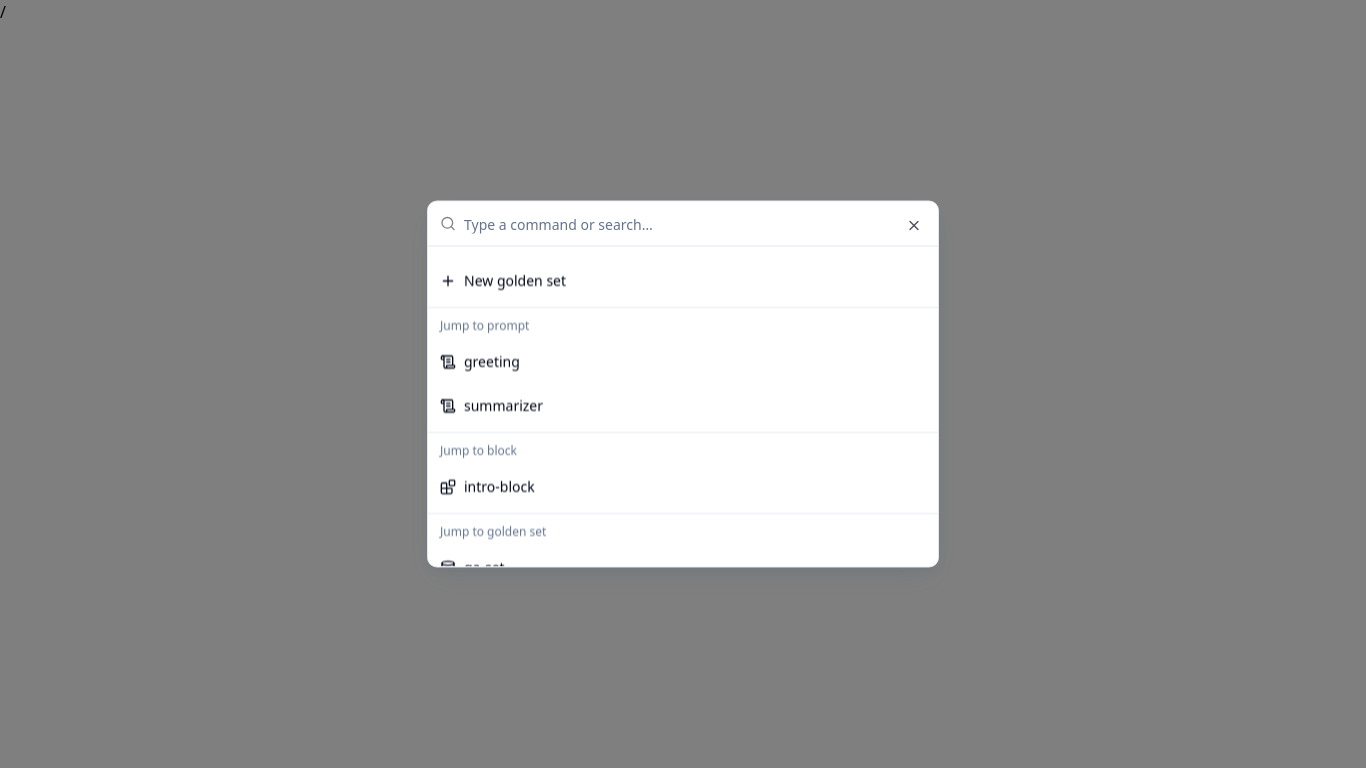
CommandPalette › navigates and closes when an item is selected
(page scrolled)
Click the option "summarizer" at (492, 406), box [440, 396, 543, 416]
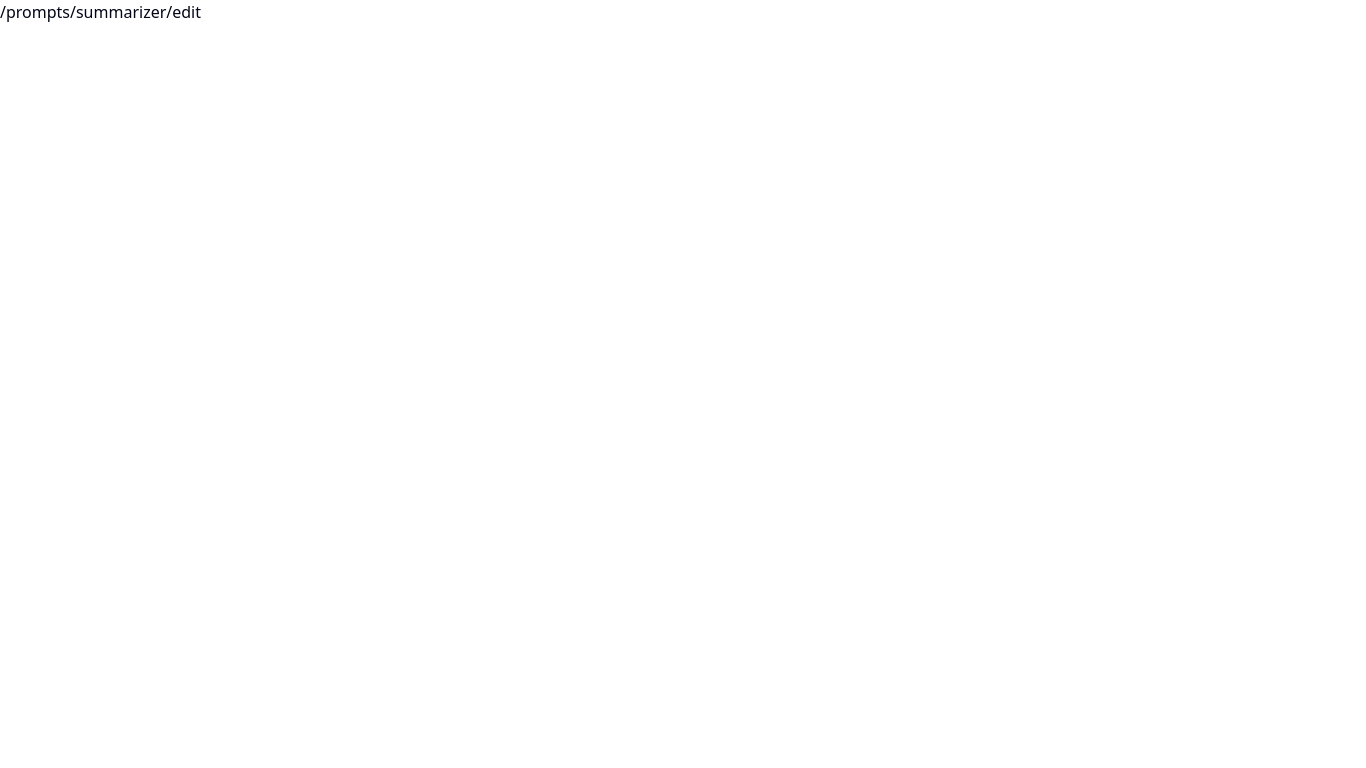
Expected: the field with placeholder "type a command" is not shown
Result: the text with test id "location" reads "/prompts/summarizer/edit" at [0, 1, 201, 23]
